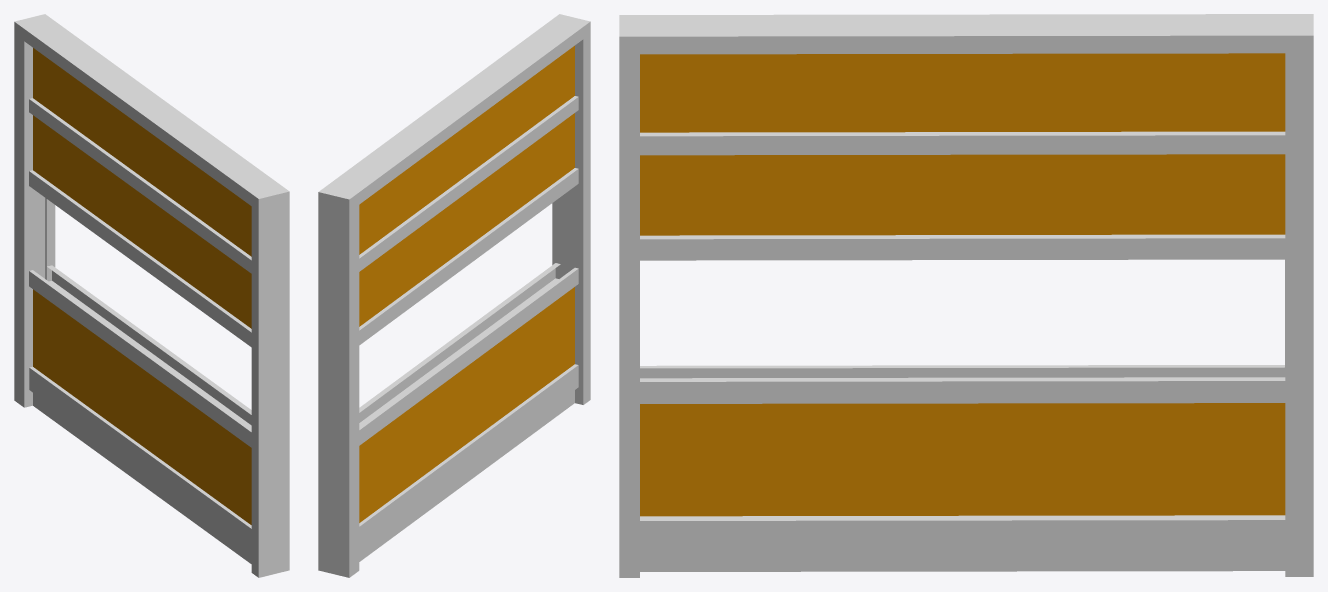
File: RailWall.fbx
The picture shows the model from 3 angles, left to right: view 1: azimuth 30°, elevation 25°; view 2: azimuth 150°, elevation 25°; view 3: azimuth 270°, elevation 25°; orthographic projection. The views are drawn at different scales.
Parts seen in each view (by area): view 1: Cube.112; view 2: Cube.112; view 3: Cube.112.
Part boxes in pixels (left/top/right/bottom): Cube.112: left=14, top=14, right=289, bottom=577; Cube.112: left=318, top=14, right=590, bottom=577; Cube.112: left=619, top=14, right=1313, bottom=577.
Bounding box in the file's own units: 28.2 × 314 × 365.
